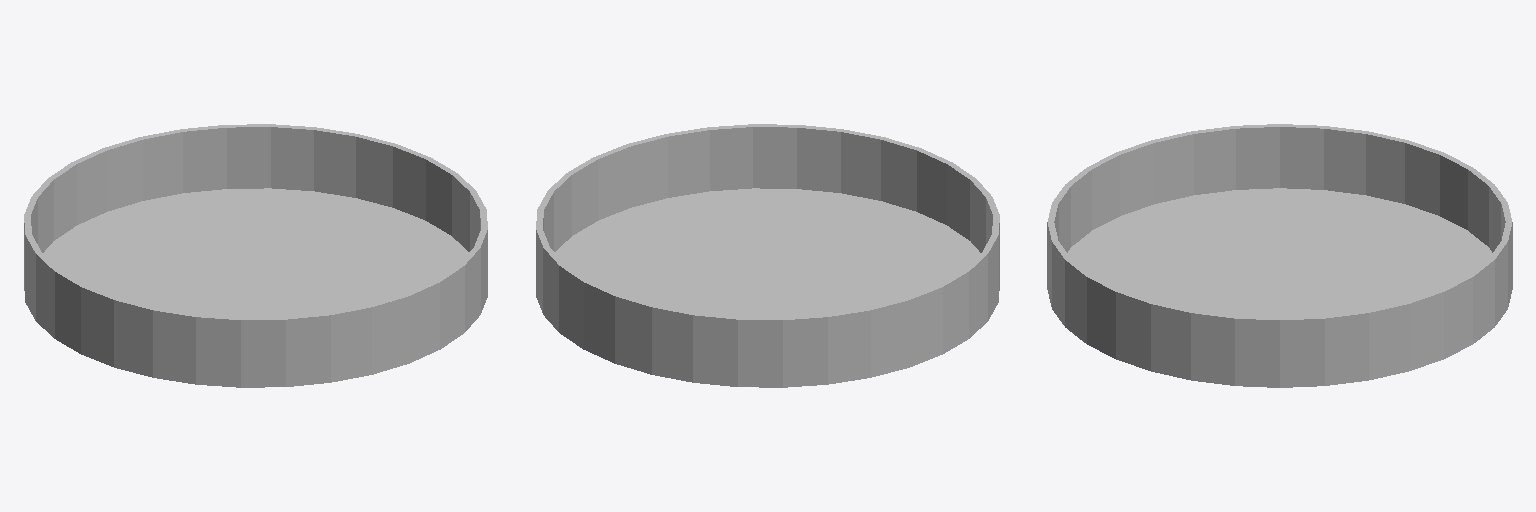
The model's file is compass_shell.obj.
3 views of the same model, side by side, from view 1: azimuth 30°, elevation 25°; view 2: azimuth 150°, elevation 25°; view 3: azimuth 270°, elevation 25° (orthographic).
Parts seen in each view (by area): view 1: compass_shell_compass; view 2: compass_shell_compass; view 3: compass_shell_compass.
Boxes of the visible parts, x1,y1,x2,y2 form: compass_shell_compass: [24, 124, 487, 387]; compass_shell_compass: [536, 124, 999, 387]; compass_shell_compass: [1047, 124, 1512, 387].
Bounding box in the file's own units: 20.6 × 3.3 × 20.6.